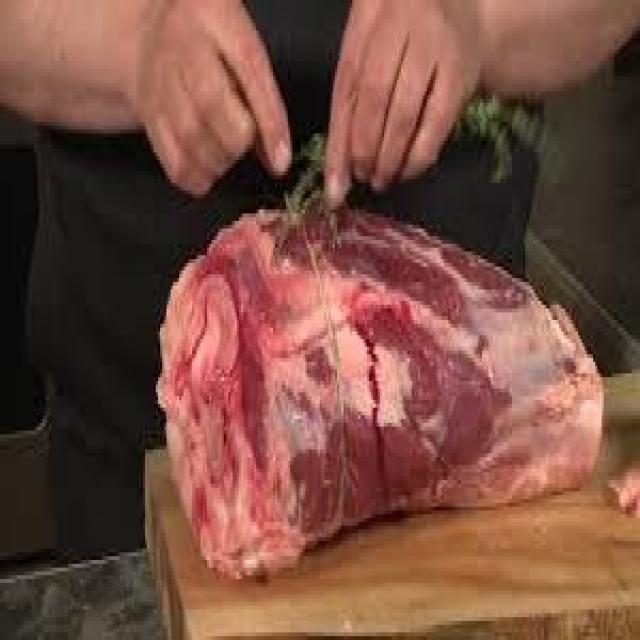beef: (180, 239, 611, 564)
